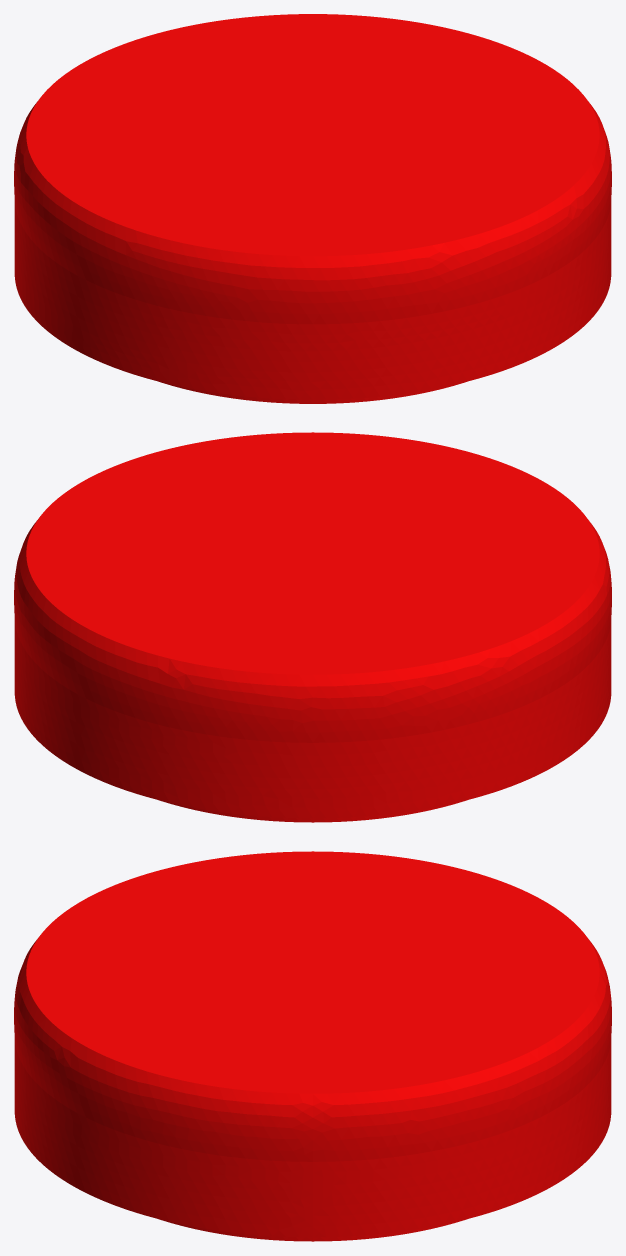
File: tool_sponge_red.dae
3 renders of one model, top to bottom at view 1: azimuth 30°, elevation 25°; view 2: azimuth 150°, elevation 25°; view 3: azimuth 270°, elevation 25°, orthographic.
Visible parts, largest first — view 1: node0; view 2: node0; view 3: node0.
Boxes of the visible parts, bbox=[...] form: node0: bbox=[14, 14, 611, 403]; node0: bbox=[14, 432, 611, 822]; node0: bbox=[14, 851, 611, 1241].
Bounding box in the file's own units: 0.0876 × 0.0876 × 0.0262.
